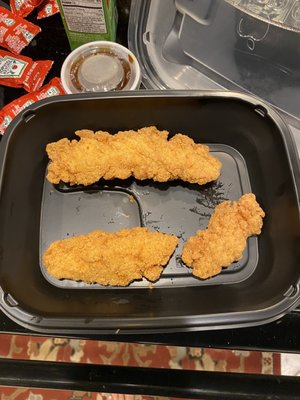sushi: (60, 40, 142, 95)
